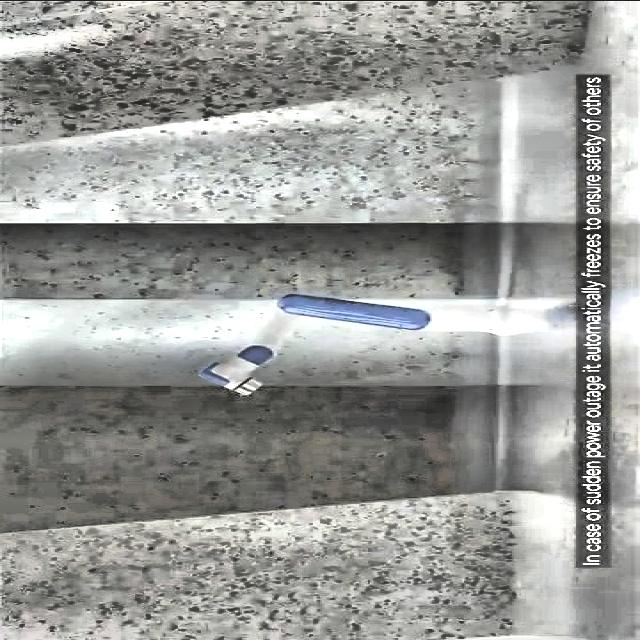robot: (195, 279, 513, 397)
